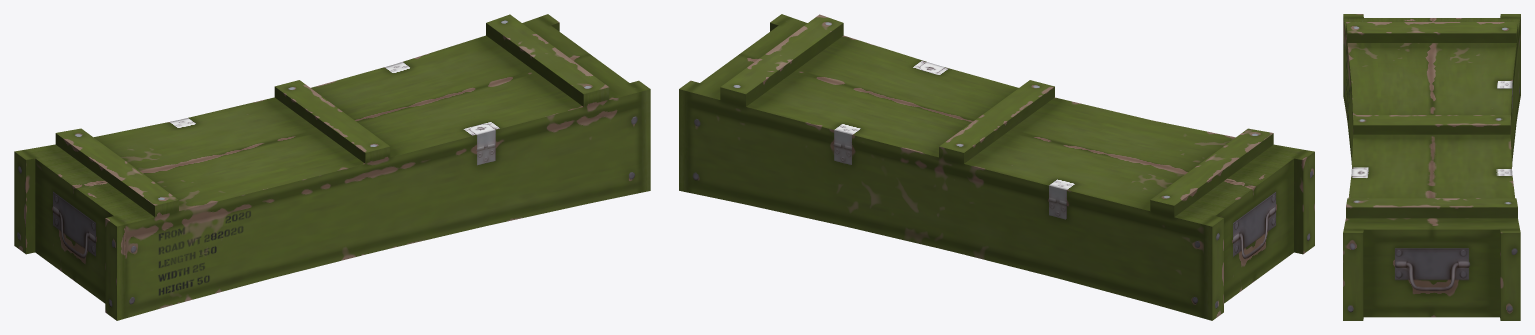
File: Crate04_1.FBX
3 views of the same model, side by side, from view 1: azimuth 30°, elevation 25°; view 2: azimuth 150°, elevation 25°; view 3: azimuth 270°, elevation 25° (orthographic). The views are drawn at different scales.
Parts seen in each view (by area): view 1: Crate04_1; view 2: Crate04_1; view 3: Crate04_1.
Part boxes in pixels (bbox=[...]): Crate04_1: bbox=[14, 14, 650, 320]; Crate04_1: bbox=[679, 14, 1314, 320]; Crate04_1: bbox=[1343, 14, 1520, 320].
Size of what is drawn, in the model's own units: 1.5 by 0.3013 by 0.5005.
